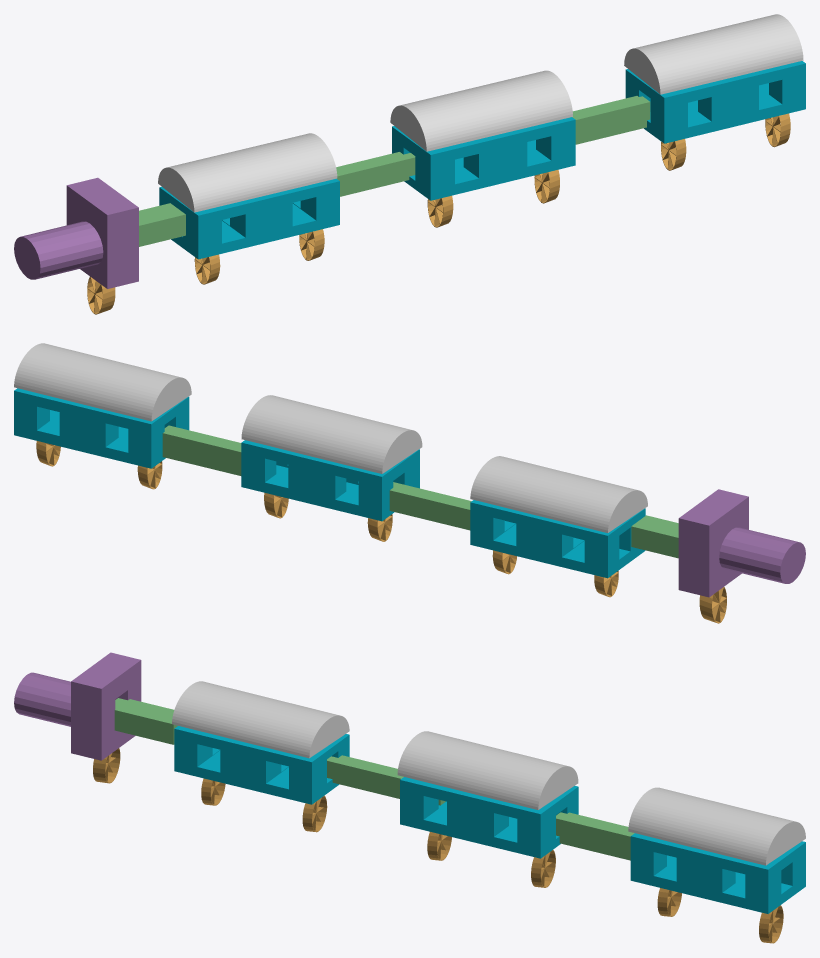
Rendered from train.glb.
3 views of the same model, one above another, from view 1: azimuth 30°, elevation 25°; view 2: azimuth 150°, elevation 25°; view 3: azimuth 330°, elevation 25° (orthographic). The views are drawn at different scales.
Visible parts, largest first — view 1: Mesh_Mesh_head_geo.001_lambert2SG.001; view 2: Mesh_Mesh_head_geo.001_lambert2SG.001; view 3: Mesh_Mesh_head_geo.001_lambert2SG.001.
Part boxes in pixels (box(x1,y1,x2,y2)): Mesh_Mesh_head_geo.001_lambert2SG.001: box(14, 14, 805, 314); Mesh_Mesh_head_geo.001_lambert2SG.001: box(14, 343, 805, 623); Mesh_Mesh_head_geo.001_lambert2SG.001: box(14, 652, 805, 943).
Size of the model in its own units: 229 by 35.07 by 25.35.
